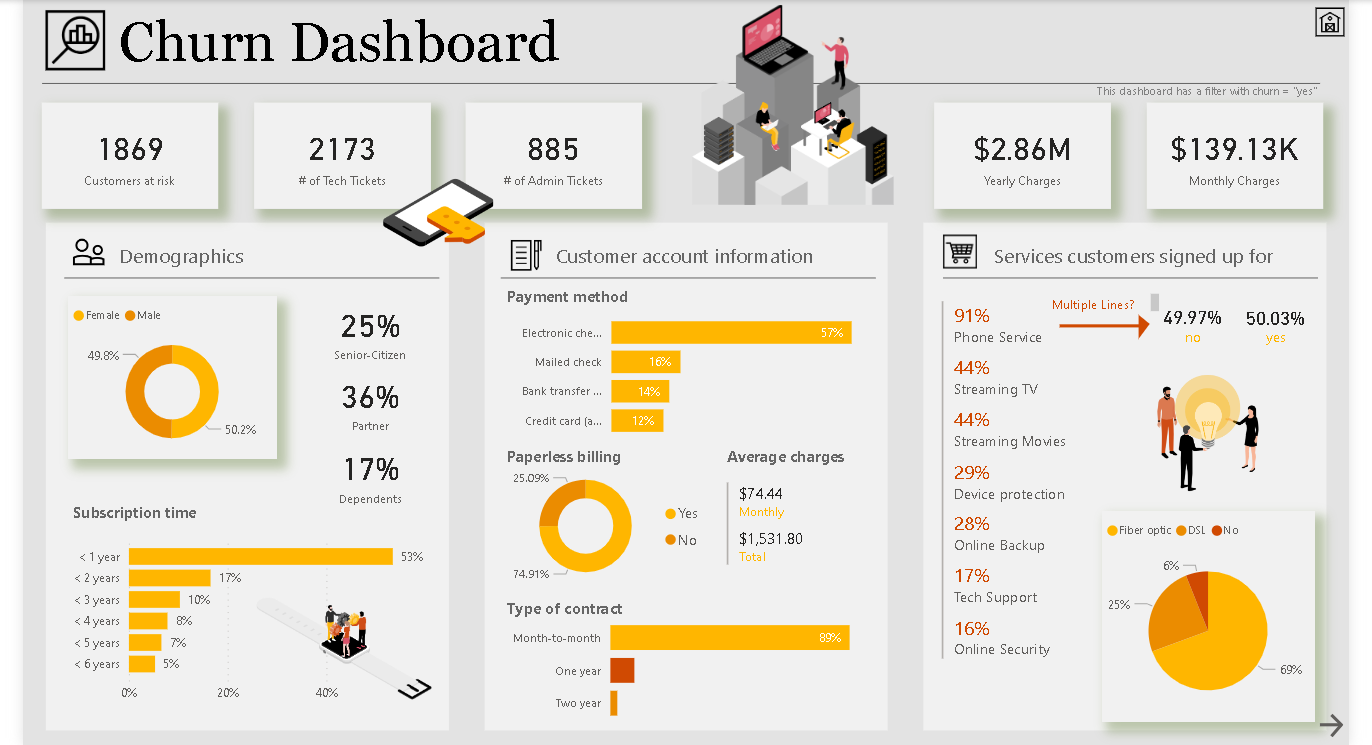

The page's visual inventory and layout, read from the dashboard file:
{"tool":"powerbi","page":{"name":"Churn","canvas":[1280,720],"ordinal":1},"visuals":[{"type":"textbox","box":[87.7,4.9,1173.8,75],"z":0},{"type":"basicShape","box":[8.7,60.7,1253,40.5],"z":1000},{"type":"basicShape","box":[18.3,210,396.8,499.9],"z":2000},{"type":"card","fields":{"Values":["CountNonNull(churn.customerID)"]},"box":[18.5,99.4,170,102.3],"z":3000},{"type":"basicShape","box":[441.6,210,396.8,499.9],"z":4000},{"type":"basicShape","box":[864.9,210,396.8,499.9],"z":5000},{"type":"textbox","box":[508.5,228.6,314.9,35.6],"z":6000},{"type":"basicShape","box":[450.7,248.9,381.4,39.5],"z":7000},{"type":"image","box":[461.3,226.3,47.2,39.5],"z":8000},{"type":"textbox","box":[932.7,228.6,314.9,35.6],"z":9000},{"type":"basicShape","box":[877.4,248.9,381.4,39.5],"z":10000},{"type":"textbox","box":[88,228.6,314.9,35.6],"z":11000},{"type":"basicShape","box":[30.2,248.9,381.4,39.5],"z":12000},{"type":"image","box":[883.2,220.6,42.4,43.3],"z":13000},{"type":"image","box":[43.3,220.6,40.5,44.3],"z":14000},{"type":"donutChart","fields":{"Category":["churn.gender"],"Y":["CountNonNull(churn.gender)"]},"box":[43.8,286,201.3,156.6],"z":15000},{"type":"card","fields":{"Values":["churn.SeniorCitizen in %"]},"box":[271.4,268.7,128.1,100.2],"z":16000},{"type":"card","fields":{"Values":["churn.Partner in %"]},"box":[271.4,338.1,128.4,100.2],"z":17000},{"type":"card","fields":{"Values":["churn.Dependents in %"]},"box":[271.4,407.5,128.4,100.2],"z":18000},{"type":"clusteredBarChart","fields":{"Category":["churn.Contract"],"Y":["CountNonNull(churn.Contract)"]},"box":[461.3,577.9,370.8,131.9],"z":19000},{"type":"clusteredBarChart","fields":{"Y":["CountNonNull(churn.PaymentMethod)"],"Category":["churn.PaymentMethod"]},"box":[461.3,286,370.8,148.3],"z":20000},{"type":"textbox","box":[461.3,269.7,314.9,35.6],"z":21000},{"type":"textbox","box":[461.3,424.7,204.2,35.6],"z":22000},{"type":"donutChart","fields":{"Category":["churn.PaperlessBilling"],"Y":["CountNonNull(churn.PaperlessBilling)"]},"box":[461.3,438.2,204.2,139.7],"z":23000},{"type":"multiRowCard","fields":{"Values":["Sum(churn.MonthlyCharges)","Sum(churn.TotalCharges)"]},"box":[674.2,460.4,149.3,95.3],"z":24000},{"type":"textbox","box":[461.3,572.1,314.9,35.6],"z":25000},{"type":"pieChart","fields":{"Category":["churn.InternetService"],"Y":["Divide(CountNonNull(churn.InternetService), ScopedEval(CountNonNull(churn.InternetService), []))"]},"box":[1040.4,492.9,205.5,203.6],"z":26000},{"type":"card","fields":{"Values":["churn.Multiple Lines in %"]},"box":[1172.8,276.4,72.2,62.6],"z":27000},{"type":"card","fields":{"Values":["churn.Multiple lines no in %"]},"box":[1093.1,276.4,72.2,61.6],"z":28000},{"type":"textbox","box":[971.7,278.2,129.4,27.2],"z":29000},{"type":"textbox","box":[1092.2,311,73.2,35.6],"z":30000},{"type":"textbox","box":[1172.8,311,73.2,35.6],"z":31000},{"type":"textbox","box":[674.2,424.7,148.3,35.6],"z":32000},{"type":"multiRowCard","fields":{"Values":["churn.Phone Service in %","churn.Streaming TV in %","churn.Streaming Movies in %","churn.Device protection in %","churn.Online Bacup in %","churn.Tech Support in %","churn.Online Sec. in %"]},"box":[882.2,286,165.3,414.3],"z":33000},{"type":"basicShape","box":[990.2,300.5,97.3,28.2],"z":34000},{"type":"basicShape","box":[1063.1,296.7,37.9,32.1],"z":35000},{"type":"clusteredBarChart","fields":{"Y":["CountNonNull(churn.Churn)"],"Category":["churn.Loyalty"]},"box":[37,507.7,365.7,179],"z":36000},{"type":"textbox","box":[43.8,478.5,314.2,35],"z":37000},{"type":"image","box":[1048.2,356.5,190.9,121.8],"z":38000},{"type":"actionButton","box":[1246.1,680.1,31.6,39.5],"z":39000},{"type":"image","box":[16.6,4.9,67.2,68.2],"z":40000},{"type":"card","fields":{"Values":["CountNonNull(churn.MonthlyCharges)"]},"box":[1083.9,99.4,170,102.3],"z":41000},{"type":"image","box":[634.9,0,216.9,202.2],"z":42000},{"type":"image","box":[221.1,556.2,178.3,139.3],"z":43000},{"type":"card","fields":{"Values":["CountNonNull(churn.numTechTickets)"]},"box":[222.8,99.4,170,102.3],"z":44000},{"type":"card","fields":{"Values":["CountNonNull(churn.numAdminTickets)"]},"box":[427.1,99.4,170,102.3],"z":45000},{"type":"card","fields":{"Values":["CountNonNull(churn.TotalCharges)"]},"box":[879.7,99.4,170,102.3],"z":46000},{"type":"textbox","box":[897,72.3,355.9,30.5],"z":47000},{"type":"image","box":[341.9,151,115.9,108.1],"z":48000},{"type":"image","box":[1242,0,38,42.9],"z":49000}]}

Visuals, with their boxes on the page's 1280x720 design canvas (x1, y1, x2, y2). These are canvas units, not pixel positions in the 1372x745 screenshot, which may show the page scaled, cropped or inside an application window:
textbox: box=[88, 5, 1262, 80]
basicShape: box=[9, 61, 1262, 101]
basicShape: box=[18, 210, 415, 710]
card - CountNonNull(churn.customerID): box=[18, 99, 188, 202]
basicShape: box=[442, 210, 838, 710]
basicShape: box=[865, 210, 1262, 710]
textbox: box=[508, 229, 823, 264]
basicShape: box=[451, 249, 832, 288]
image: box=[461, 226, 508, 266]
textbox: box=[933, 229, 1248, 264]
basicShape: box=[877, 249, 1259, 288]
textbox: box=[88, 229, 403, 264]
basicShape: box=[30, 249, 412, 288]
image: box=[883, 221, 926, 264]
image: box=[43, 221, 84, 265]
donutChart - churn.gender x CountNonNull(churn.gender): box=[44, 286, 245, 443]
card - churn.SeniorCitizen in %: box=[271, 269, 400, 369]
card - churn.Partner in %: box=[271, 338, 400, 438]
card - churn.Dependents in %: box=[271, 408, 400, 508]
clusteredBarChart - churn.Contract x CountNonNull(churn.Contract): box=[461, 578, 832, 710]
clusteredBarChart - CountNonNull(churn.PaymentMethod) x churn.PaymentMethod: box=[461, 286, 832, 434]
textbox: box=[461, 270, 776, 305]
textbox: box=[461, 425, 666, 460]
donutChart - churn.PaperlessBilling x CountNonNull(churn.PaperlessBilling): box=[461, 438, 666, 578]
multiRowCard - Sum(churn.MonthlyCharges) x Sum(churn.TotalCharges): box=[674, 460, 824, 556]
textbox: box=[461, 572, 776, 608]
pieChart - churn.InternetService x Divide(CountNonNull(churn.InternetService), ScopedEval(CountNonNull(churn.InternetService), [])): box=[1040, 493, 1246, 696]
card - churn.Multiple Lines in %: box=[1173, 276, 1245, 339]
card - churn.Multiple lines no in %: box=[1093, 276, 1165, 338]
textbox: box=[972, 278, 1101, 305]
textbox: box=[1092, 311, 1165, 347]
textbox: box=[1173, 311, 1246, 347]
textbox: box=[674, 425, 822, 460]
multiRowCard - churn.Phone Service in % x churn.Streaming TV in %: box=[882, 286, 1048, 700]
basicShape: box=[990, 300, 1088, 329]
basicShape: box=[1063, 297, 1101, 329]
clusteredBarChart - CountNonNull(churn.Churn) x churn.Loyalty: box=[37, 508, 403, 687]
textbox: box=[44, 478, 358, 514]
image: box=[1048, 356, 1239, 478]
actionButton: box=[1246, 680, 1278, 720]
image: box=[17, 5, 84, 73]
card - CountNonNull(churn.MonthlyCharges): box=[1084, 99, 1254, 202]
image: box=[635, 0, 852, 202]
image: box=[221, 556, 399, 696]
card - CountNonNull(churn.numTechTickets): box=[223, 99, 393, 202]
card - CountNonNull(churn.numAdminTickets): box=[427, 99, 597, 202]
card - CountNonNull(churn.TotalCharges): box=[880, 99, 1050, 202]
textbox: box=[897, 72, 1253, 103]
image: box=[342, 151, 458, 259]
image: box=[1242, 0, 1280, 43]
